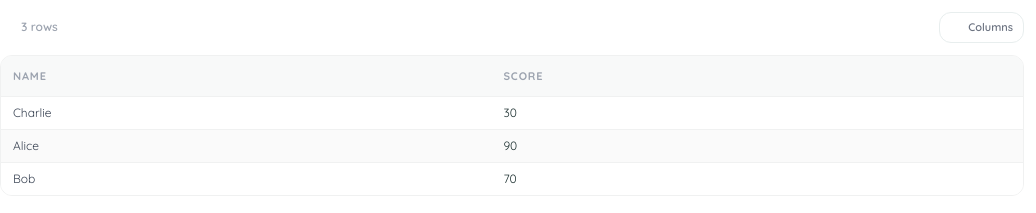
Test: ReportResultTable component › sorts by column on header click (asc then desc)
The width and height of the screenshot is (1036, 213).
Click Name header to sort ascending
Click the button "Name". click: (37, 76)
box: [13,66,62,86]
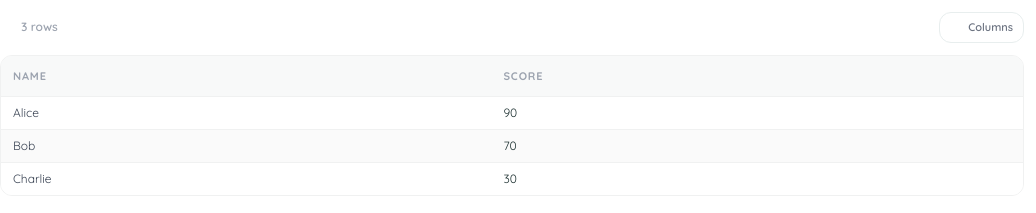
Check: the cell "Alice" is shown, box [1,96,491,129]
Check: the cell "Bob" is shown, box [1,129,491,162]
Check: the cell "Charlie" is shown, box [1,162,491,194]
